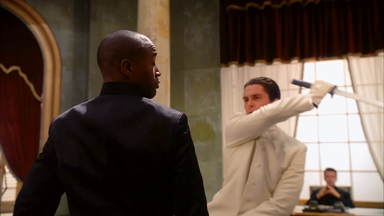bladed_weapon: (289, 74, 383, 111)
